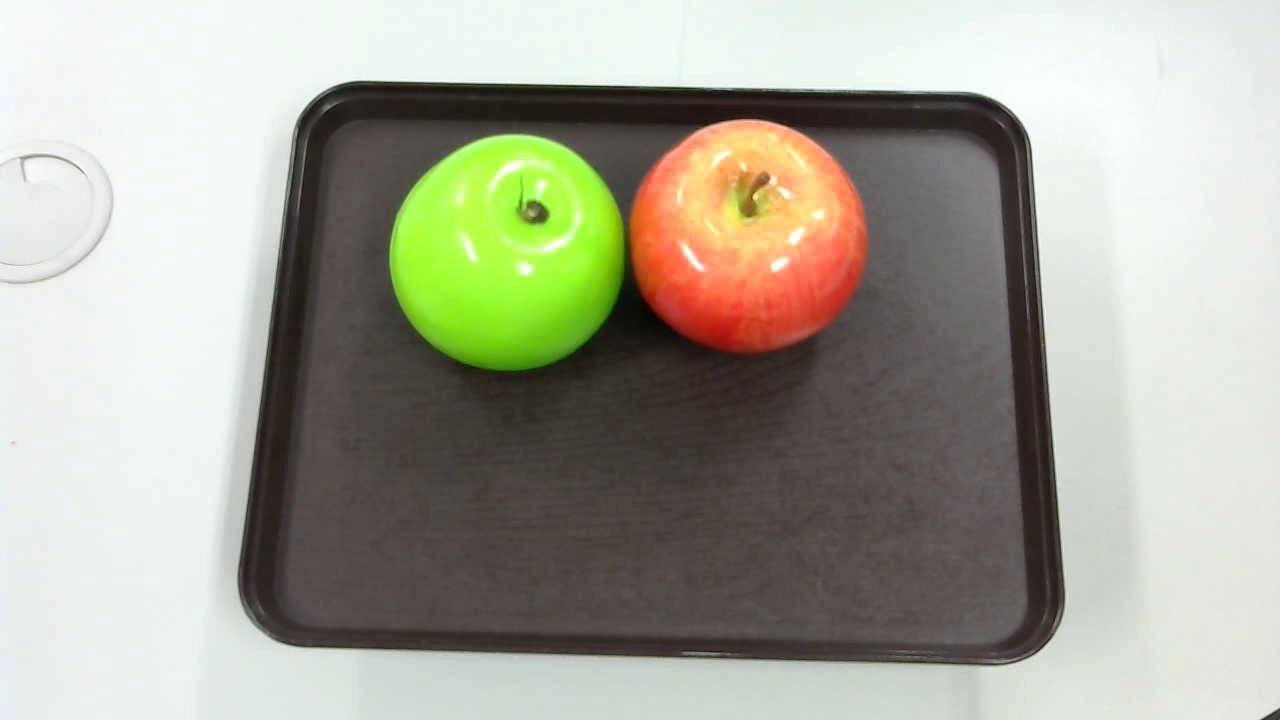green apple: (382, 128, 622, 374)
red apple: (625, 115, 868, 359)
